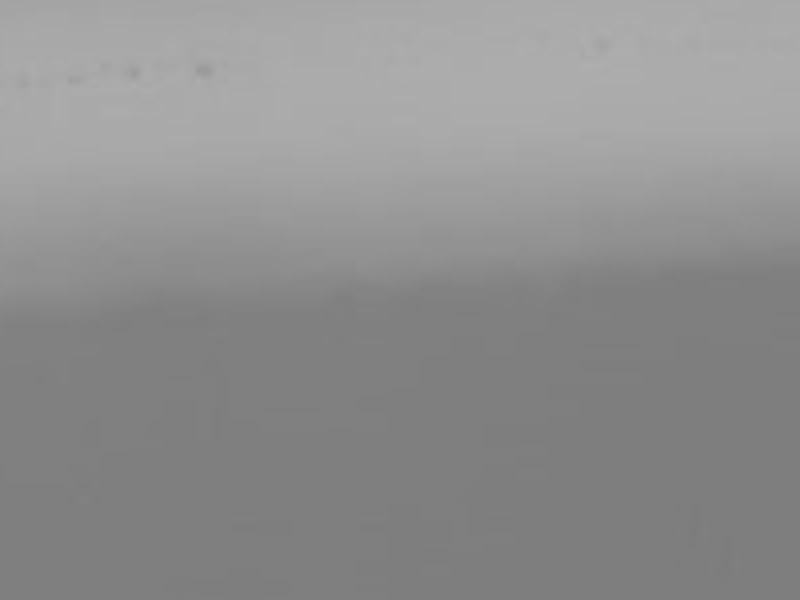defect: (196, 63, 213, 80), (595, 35, 611, 51), (15, 72, 30, 87), (126, 63, 140, 77), (68, 73, 82, 87), (98, 58, 111, 71)
